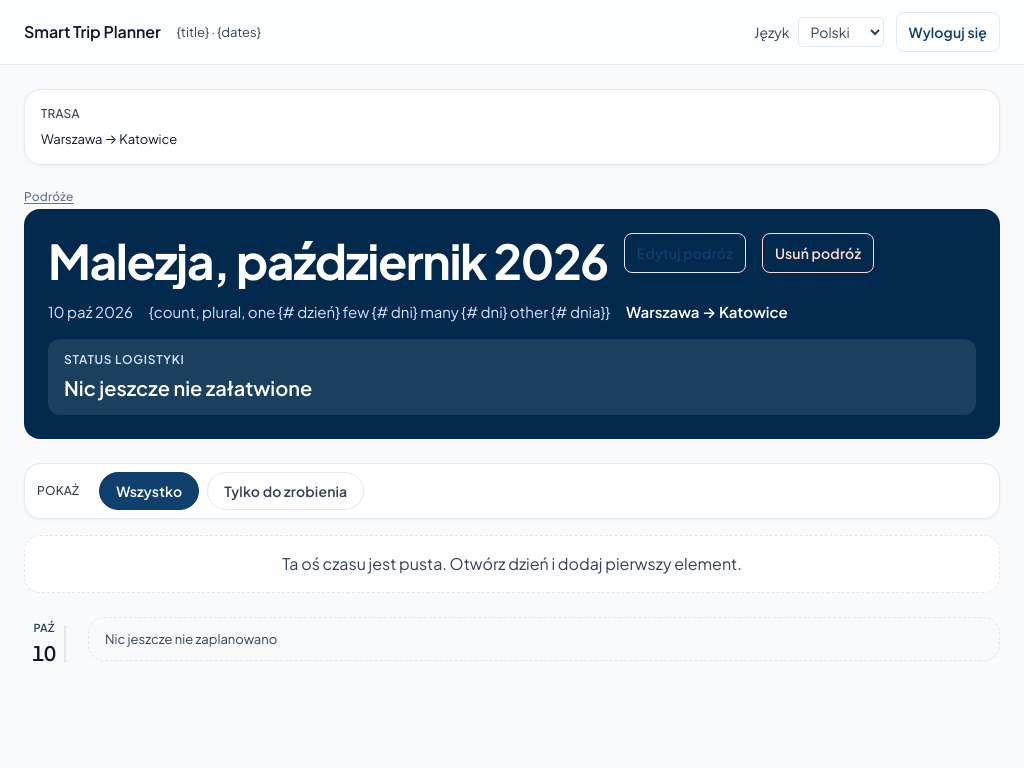
deleting a trip › cancelling deletes nothing and closes the dialog
This screenshot has width=1024, height=768.
Expected: the heading "Malezja, październik 2026" is shown, [48,233,608,289]
Click the button "Usuń podróż" at (818, 253), box [762,233,874,273]
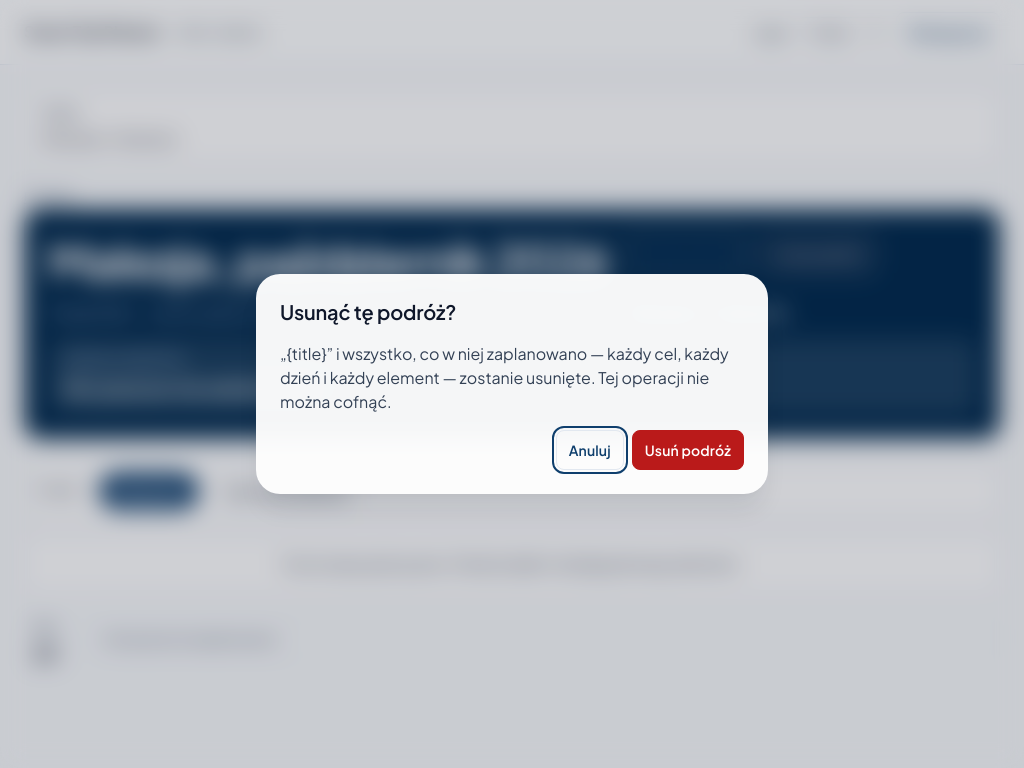
Click the button "Anuluj" at (590, 450), box [556,430,624,470]
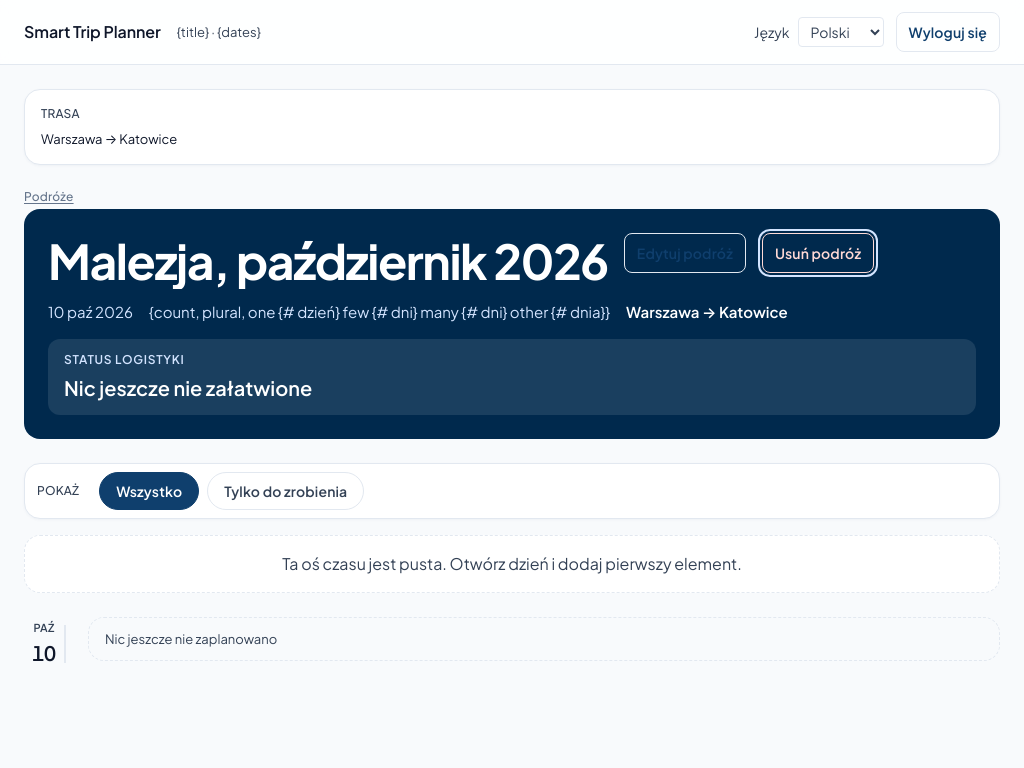
Expected: the dialog is gone
